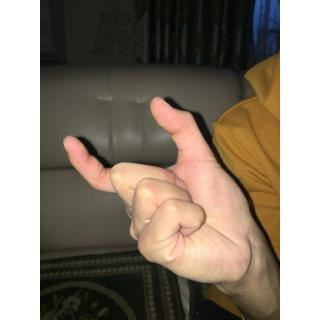NOON: (55, 91, 259, 305)
